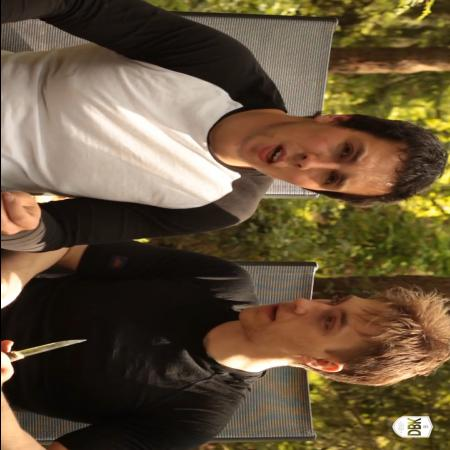long weapon: (1, 328, 94, 378)
